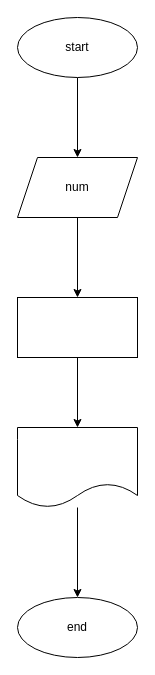
The diagram is 155 pixels wide and 675 high, and some of its shapes have lost their labels. The box of each missing label's shape, as (x1, y1, x2, y2) in pixels:
num = num * num;: (16, 296, 138, 358)
print num;: (16, 426, 138, 508)
